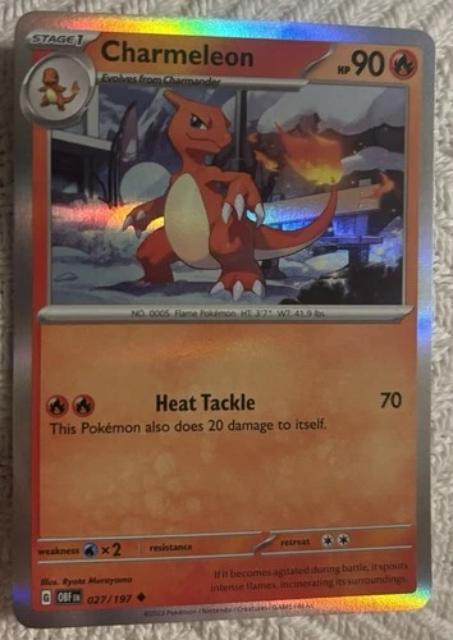Card: (5, 9, 447, 631)
Name: (95, 35, 255, 72)
